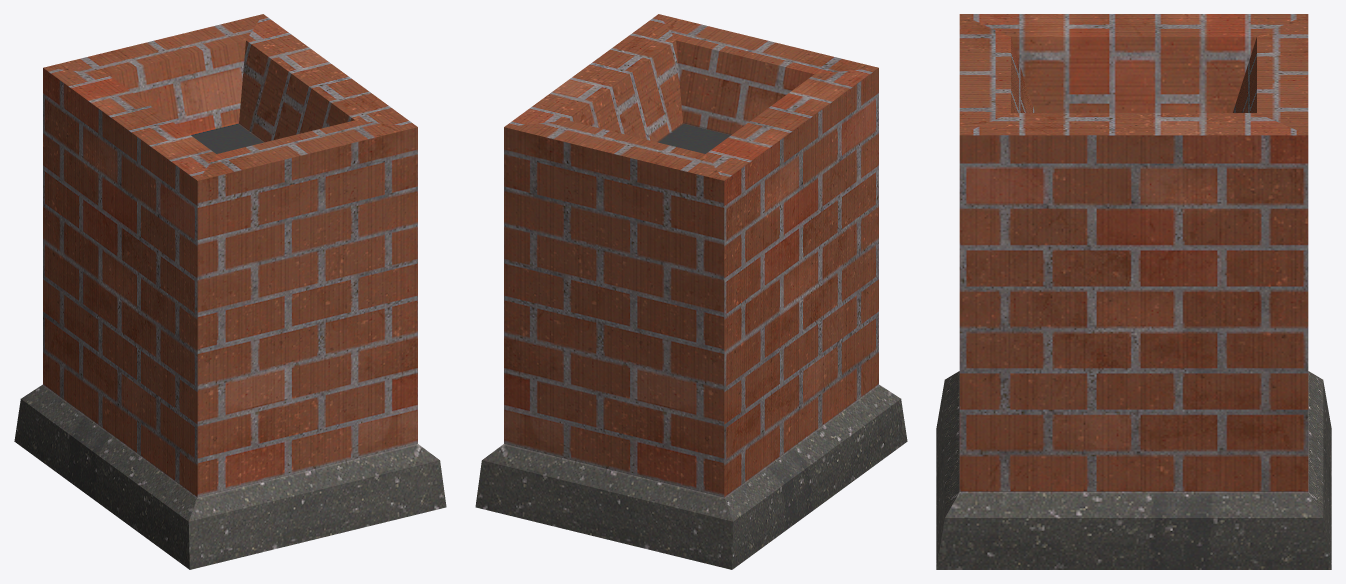
The model's file is House_02_Chimney.fbx.
The picture shows the model from 3 angles, left to right: view 1: azimuth 30°, elevation 25°; view 2: azimuth 150°, elevation 25°; view 3: azimuth 270°, elevation 25°; orthographic projection. The views are drawn at different scales.
Parts seen in each view (by area): view 1: House_02_Chimney; view 2: House_02_Chimney; view 3: House_02_Chimney.
Boxes of the visible parts, left/top/right/bottom form: House_02_Chimney: left=14, top=14, right=446, bottom=569; House_02_Chimney: left=475, top=14, right=907, bottom=569; House_02_Chimney: left=936, top=14, right=1331, bottom=569.
Size of the model in its own units: 68.75 by 96.48 by 81.39.
